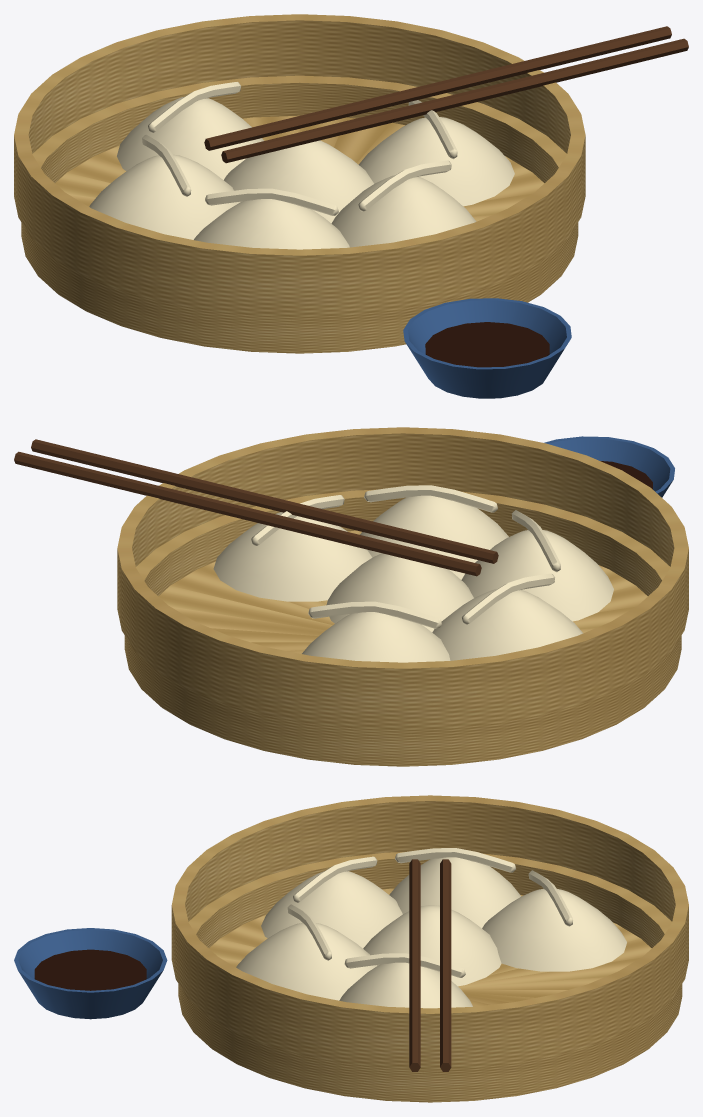
Rendered from meal_dumplings_steamer.glb.
The picture shows the model from 3 angles, top to bottom: view 1: azimuth 30°, elevation 25°; view 2: azimuth 150°, elevation 25°; view 3: azimuth 270°, elevation 25°; orthographic projection. The views are drawn at different scales.
Parts seen in each view (by area): view 1: meal_dumplings_steamer; view 2: meal_dumplings_steamer; view 3: meal_dumplings_steamer.
Part boxes in pixels (x1,y1,x2,y2): meal_dumplings_steamer: (14, 14, 688, 398); meal_dumplings_steamer: (14, 427, 688, 766); meal_dumplings_steamer: (14, 795, 688, 1102).
Size of the model in its own units: 0.298 by 0.0503 by 0.308.
Materials: 5 (1 with a texture image).
